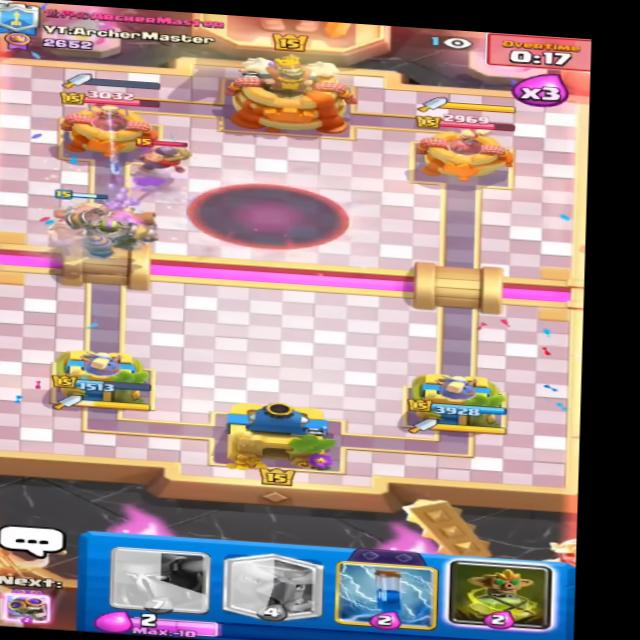knight: (131, 136, 206, 183)
